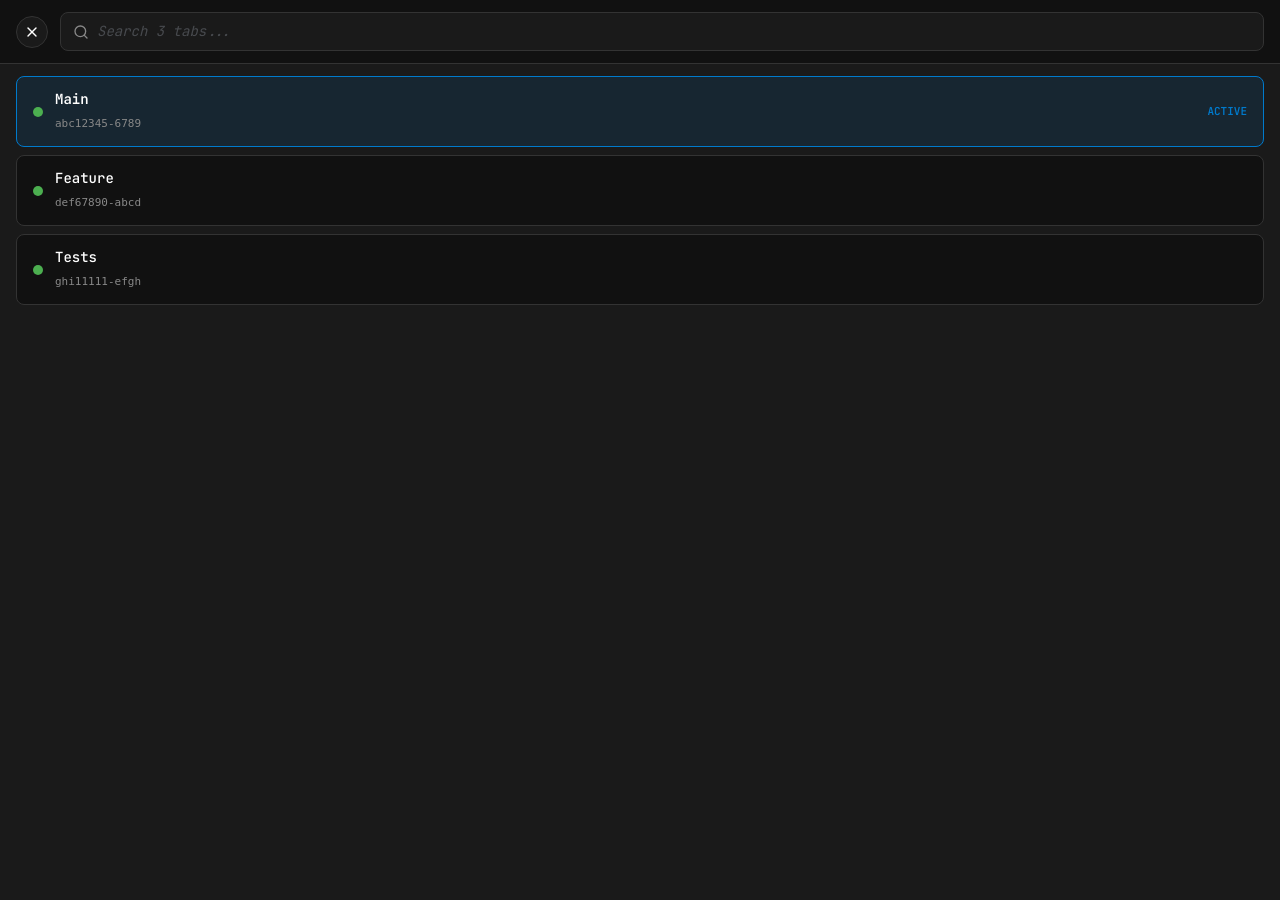
Test case: TabSearchModal › TabSearchModal main component › Clear search button › is visible when search has text
In the field with placeholder "Search 3 tabs...": (674, 32) [97, 21, 1251, 42], type "test"
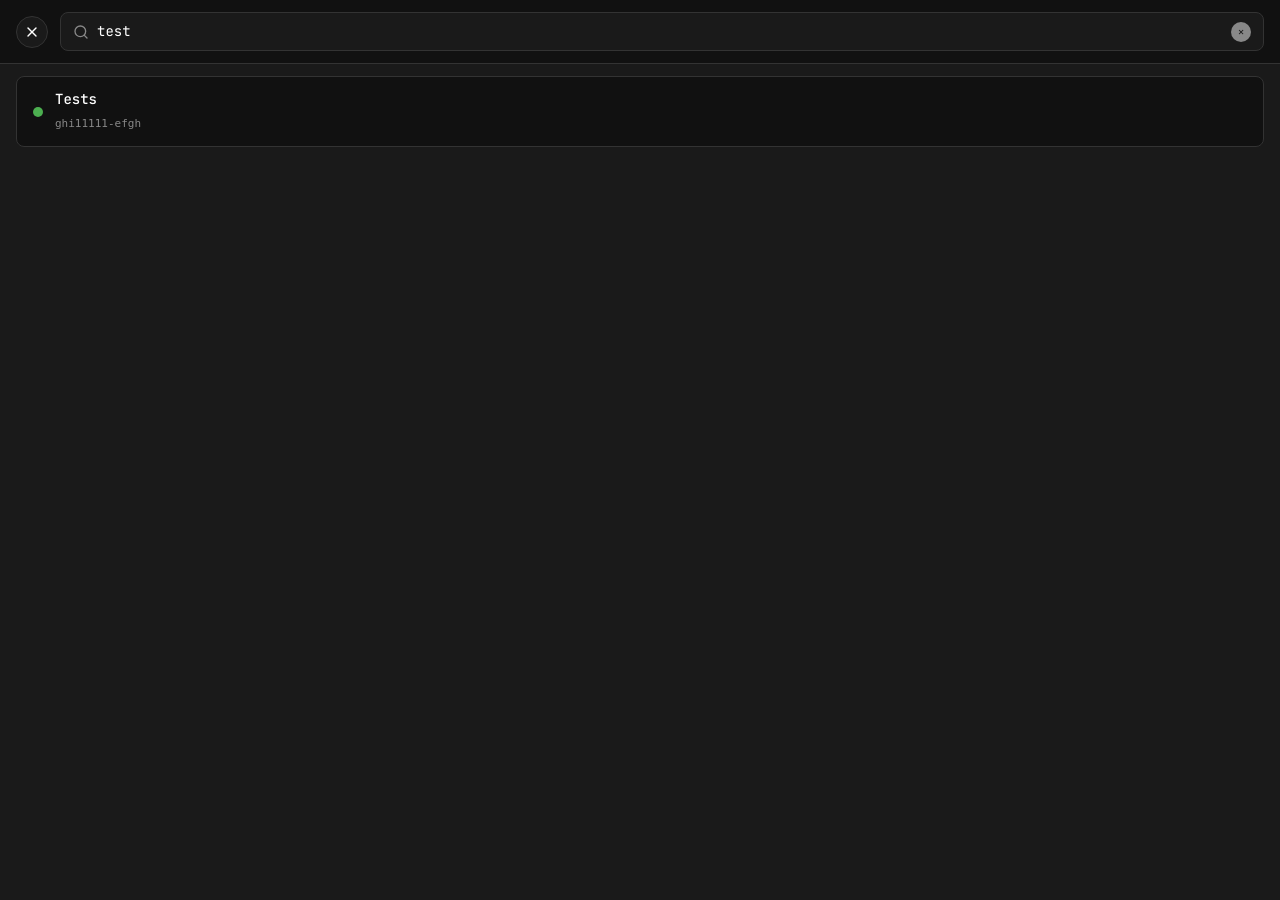
Expected: the button "×" is shown, [1231, 22, 1251, 42]
